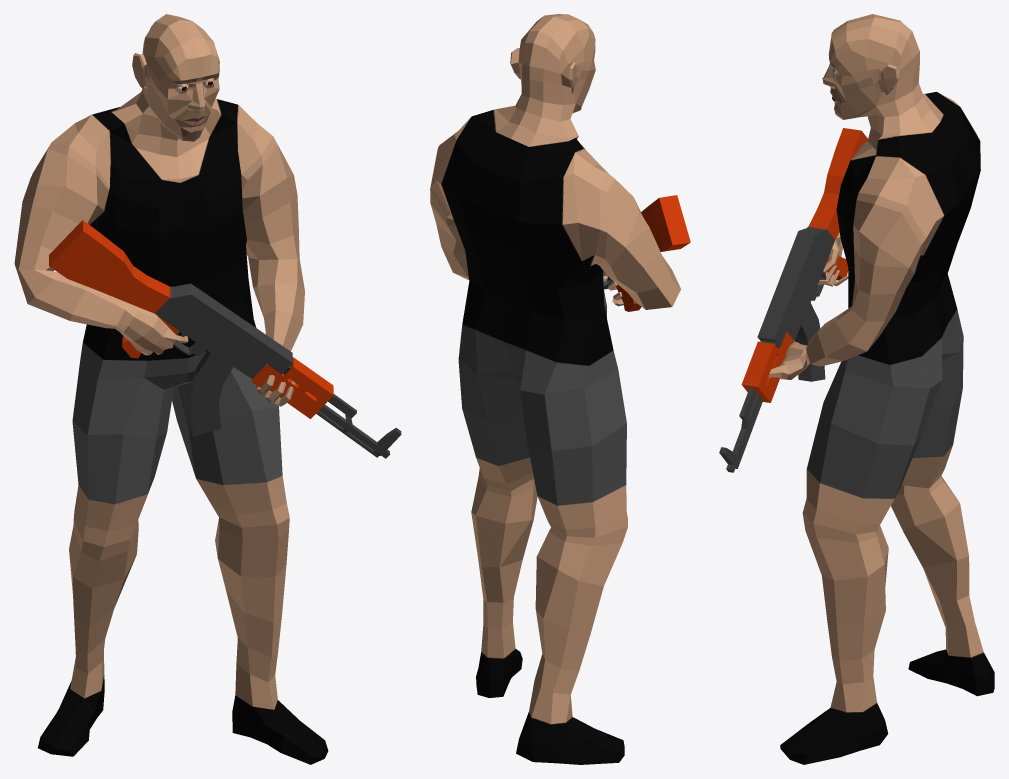
Rendered from PlayerIdle(56).obj.
3 views of the same model, side by side, from view 1: azimuth 30°, elevation 25°; view 2: azimuth 150°, elevation 25°; view 3: azimuth 270°, elevation 25° (orthographic). The views are drawn at different scales.
Visible parts, largest first — view 1: Plane002, Object001; view 2: Plane002, Object001; view 3: Plane002, Object001.
Boxes of the visible parts, box(x1,y1,x2,y2) form: Plane002: box(14, 14, 328, 764); Object001: box(49, 220, 401, 458); Plane002: box(430, 14, 680, 764); Object001: box(603, 195, 690, 317); Plane002: box(768, 14, 994, 764); Object001: box(719, 128, 867, 472).
Bounding box in the file's own units: 737 × 1801 × 647.
